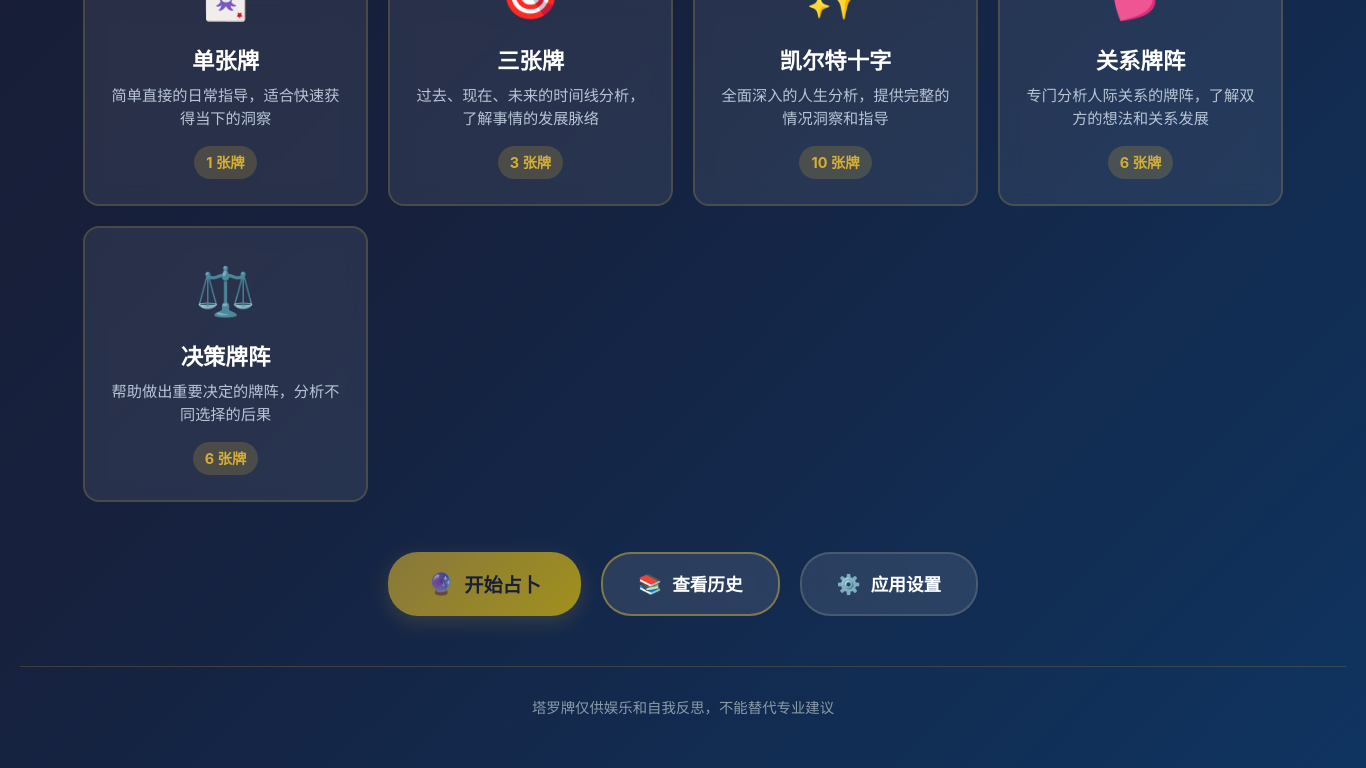
Test case: 塔罗分析应用 - 集成测试 › 历史记录功能 › 应该能够查看历史记录
(page scrolled)
Click the button "📚 查看历史" at (690, 584), box [601,552,780,616]
(page scrolled)
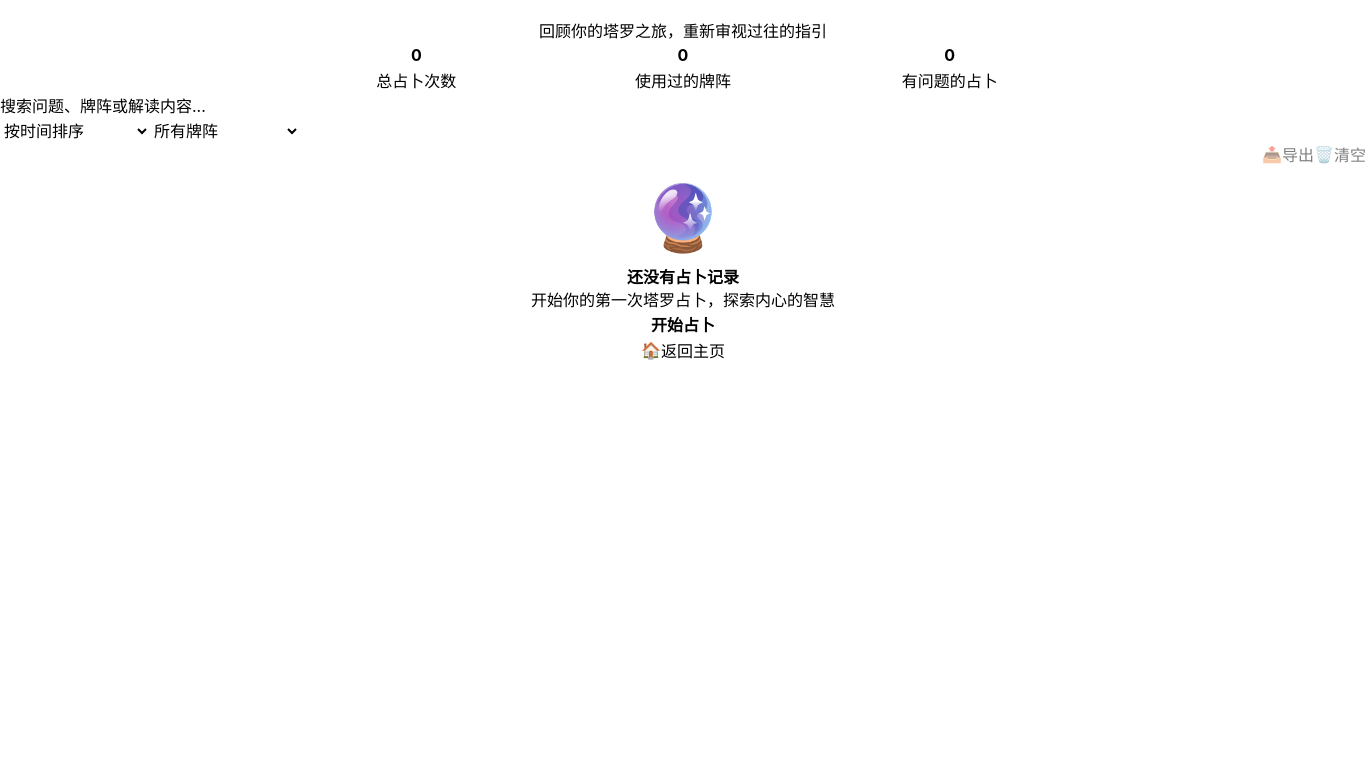
expect the text "回顾你的塔罗之旅，重新审视过往的指引" is shown: met, box [539,21,827,41]
